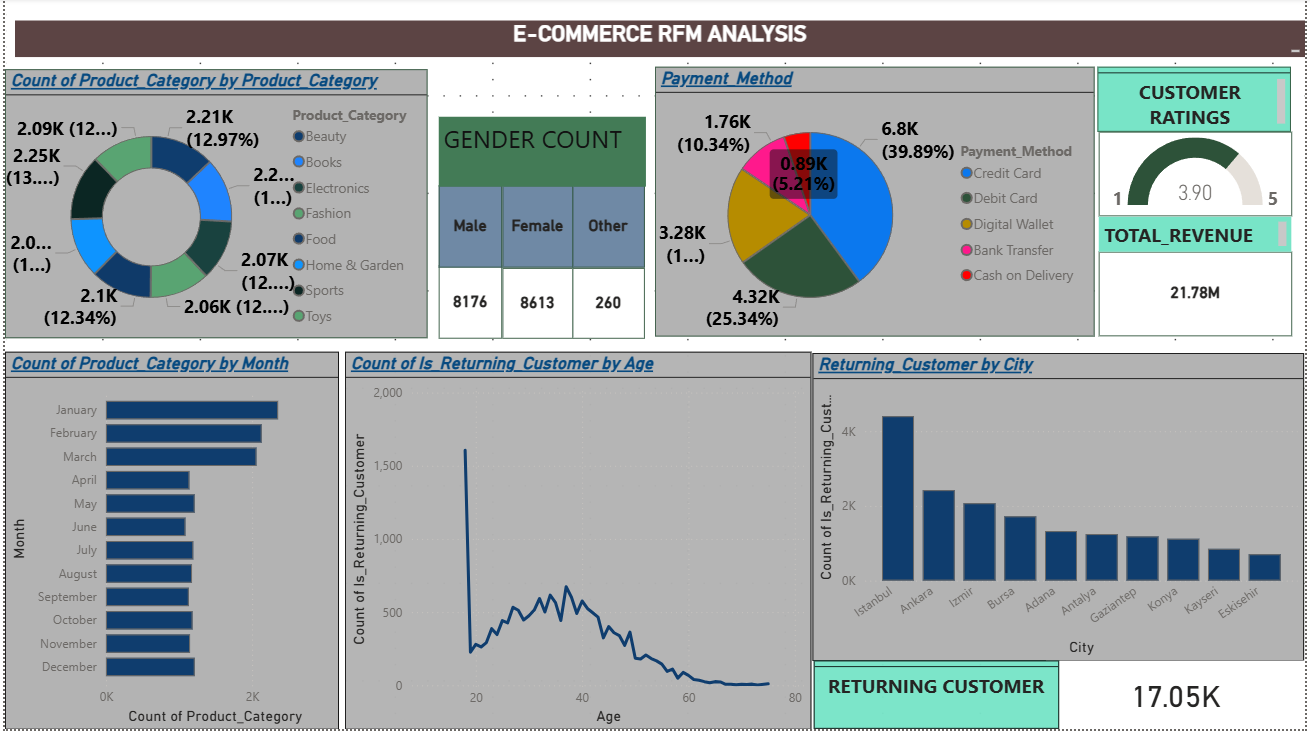

What the dashboard file says about the page in this screenshot:
{"tool":"powerbi","page":{"name":"Page 1","canvas":[1280,720],"ordinal":0},"visuals":[{"type":"textbox","box":[9.6,0,1270.7,43.9],"z":0},{"type":"textbox","title":"E-COMMERCE RFM ANALYSIS","box":[10,22.5,1270,36.2],"z":1000},{"type":"barChart","fields":{"Category":["ecommerce.Date.Variation.Date Hierarchy.Month"],"Y":["CountNonNull(ecommerce.Product_Category)"]},"box":[0,348.3,328.6,371.7],"z":2000},{"type":"donutChart","fields":{"Y":["CountNonNull(ecommerce.Product_Category)"],"Series":["ecommerce.Product_Category"]},"box":[0,70.2,416,264.6],"z":3000},{"type":"lineChart","fields":{"Category":["ecommerce.Age"],"Y":["CountNonNull(ecommerce.Is_Returning_Customer)"]},"box":[335.2,347.8,459.3,372.2],"z":4000},{"type":"card","fields":{"Values":["CountNonNull(ecommerce.Gender)"]},"box":[489.7,265.7,69.6,69.6],"z":5000},{"type":"card","fields":{"Values":["CountNonNull(ecommerce.Gender)","select"]},"box":[427.1,263,62.6,72.3],"z":6000},{"type":"card","fields":{"Values":["CountNonNull(ecommerce.Gender)"]},"box":[559.3,265.7,71,69.6],"z":7000},{"type":"card","fields":{"Values":["Min(ecommerce.Gender)"]},"box":[427.1,185,62.6,80.7],"z":8000},{"type":"card","fields":{"Values":["Min(ecommerce.Gender)"]},"box":[489.7,185,69.6,80.7],"z":9000},{"type":"card","fields":{"Values":["Max(ecommerce.Gender)"]},"box":[559.3,185,71,80.7],"z":10000},{"type":"textbox","box":[426.9,116.7,203.7,68.5],"z":11000},{"type":"card","fields":{"Values":["Sum(ecommerce.Total_Amount)"]},"box":[1076.9,250.4,190.6,83.5],"z":12000},{"type":"gauge","fields":{"Y":["Avg(ecommerce.Customer_Rating)"],"MinValue":["Min(ecommerce.Customer_Rating)"],"MaxValue":["Max(ecommerce.Customer_Rating)"]},"box":[1076.9,132.2,190.6,83.5],"z":13000},{"type":"pieChart","title":"Payment_Method","fields":{"Category":["ecommerce.Payment_Method"],"Y":["CountNonNull(ecommerce.Payment_Method)"],"Series":["ecommerce.Payment_Method"]},"box":[640,68.2,432.7,265.7],"z":14000},{"type":"textbox","box":[1075.5,68.2,190.6,64],"z":15000},{"type":"columnChart","title":"Returning_Customer by City","fields":{"Y":["CountNonNull(ecommerce.Is_Returning_Customer)"],"Category":["ecommerce.City"]},"box":[795.7,349.3,484.1,302.9],"z":16000},{"type":"textbox","box":[1076.9,215.7,189.8,34.3],"z":17000},{"type":"card","fields":{"Values":["CountNonNull(ecommerce.Is_Returning_Customer)"]},"box":[1024.6,652.2,255.1,68.1],"z":18000},{"type":"textbox","box":[796.2,652.5,241.2,67.5],"z":19000}]}

Visuals, with their boxes in screenshot pixels (x1, y1, x2, y2), scaled from the page's 1280x720 canvas onto the 1310x733 screenshot:
textbox: 10 0 1309 45
"E-COMMERCE RFM ANALYSIS" textbox: 10 23 1309 60
barChart - ecommerce.Date.Variation.Date Hierarchy.Month x CountNonNull(ecommerce.Product_Category): 0 355 336 732
donutChart - CountNonNull(ecommerce.Product_Category) x ecommerce.Product_Category: 0 71 426 341
lineChart - ecommerce.Age x CountNonNull(ecommerce.Is_Returning_Customer): 343 354 813 732
card - CountNonNull(ecommerce.Gender): 501 270 572 341
card - CountNonNull(ecommerce.Gender) x select: 437 268 501 341
card - CountNonNull(ecommerce.Gender): 572 270 645 341
card - Min(ecommerce.Gender): 437 188 501 270
card - Min(ecommerce.Gender): 501 188 572 270
card - Max(ecommerce.Gender): 572 188 645 270
textbox: 437 119 645 189
card - Sum(ecommerce.Total_Amount): 1102 255 1297 340
gauge - Avg(ecommerce.Customer_Rating) x Min(ecommerce.Customer_Rating): 1102 135 1297 220
"Payment_Method" pieChart: 655 69 1098 340
textbox: 1101 69 1296 135
"Returning_Customer by City" columnChart: 814 356 1309 664
textbox: 1102 220 1296 255
card - CountNonNull(ecommerce.Is_Returning_Customer): 1049 664 1309 732
textbox: 815 664 1062 732
